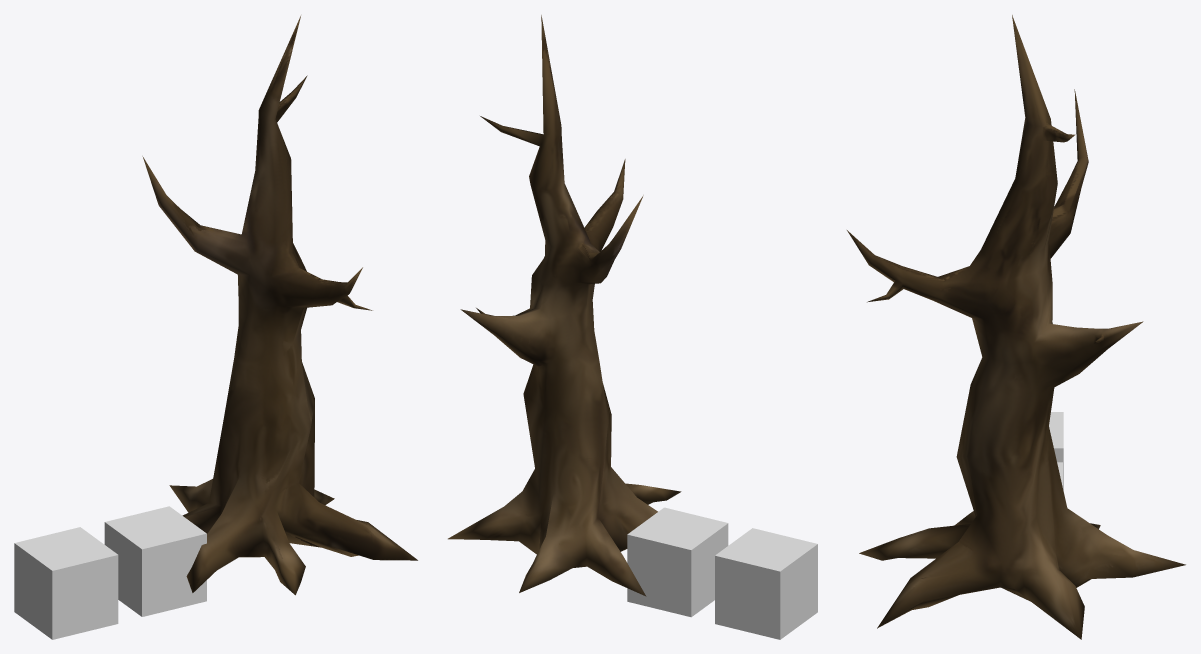
File: tree_1.fbx
3 views of the same model, side by side, from view 1: azimuth 30°, elevation 25°; view 2: azimuth 150°, elevation 25°; view 3: azimuth 270°, elevation 25° (orthographic). The views are drawn at different scales.
Parts seen in each view (by area): view 1: Cube.001, Cube, Cube.002; view 2: Cube.001, Cube, Cube.002; view 3: Cube.001, Cube.
Boxes of the visible parts, box(x1,y1,x2,y2) form: Cube.001: box(142, 16, 417, 595); Cube: box(14, 527, 118, 639); Cube.002: box(104, 506, 206, 616); Cube.001: box(448, 15, 681, 596); Cube: box(715, 528, 817, 639); Cube.002: box(627, 507, 728, 617); Cube.001: box(847, 15, 1185, 639); Cube: box(1049, 412, 1063, 490).
Bounding box in the file's own units: 1992 × 3190 × 1584.
Materials: 1 (1 with a texture image).
